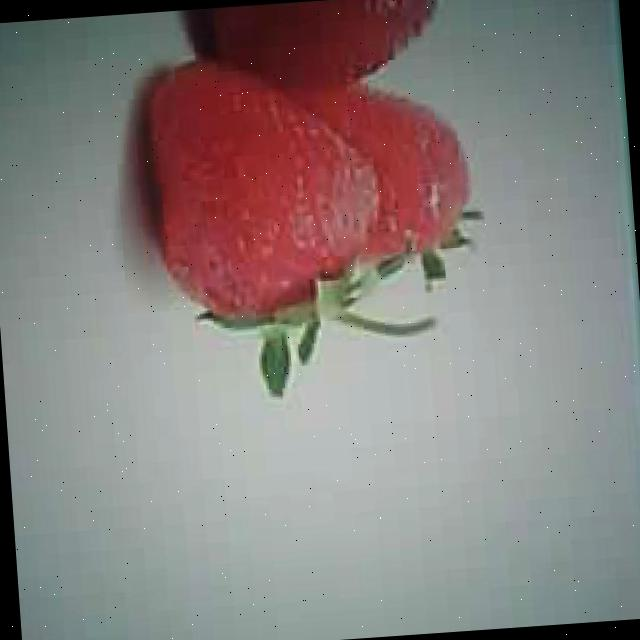strawberry: (146, 50, 382, 321)
